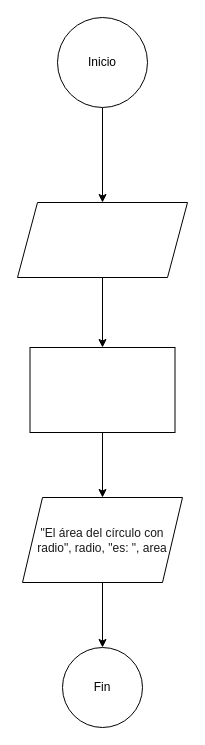
Some shapes in this 205 by 745 pixel diagram are drawn without their labels. The centre of each missing label's shape, as x and y in pixels:
"Por favor, ingrese el radio del círculo: ": (x=102, y=240)
Definir y asignar a la variable área el resultado de pi * radio^2: (x=102, y=389)
